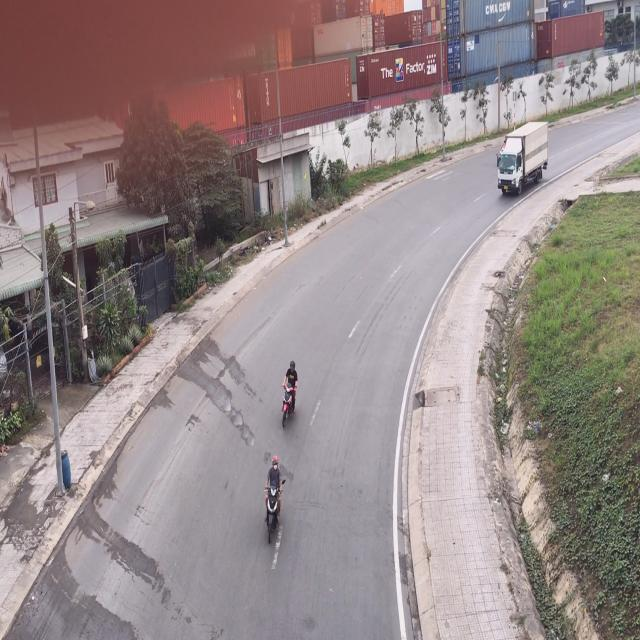motorbike: (265, 454, 285, 547), (280, 361, 298, 432)
truck: (499, 122, 550, 198)
